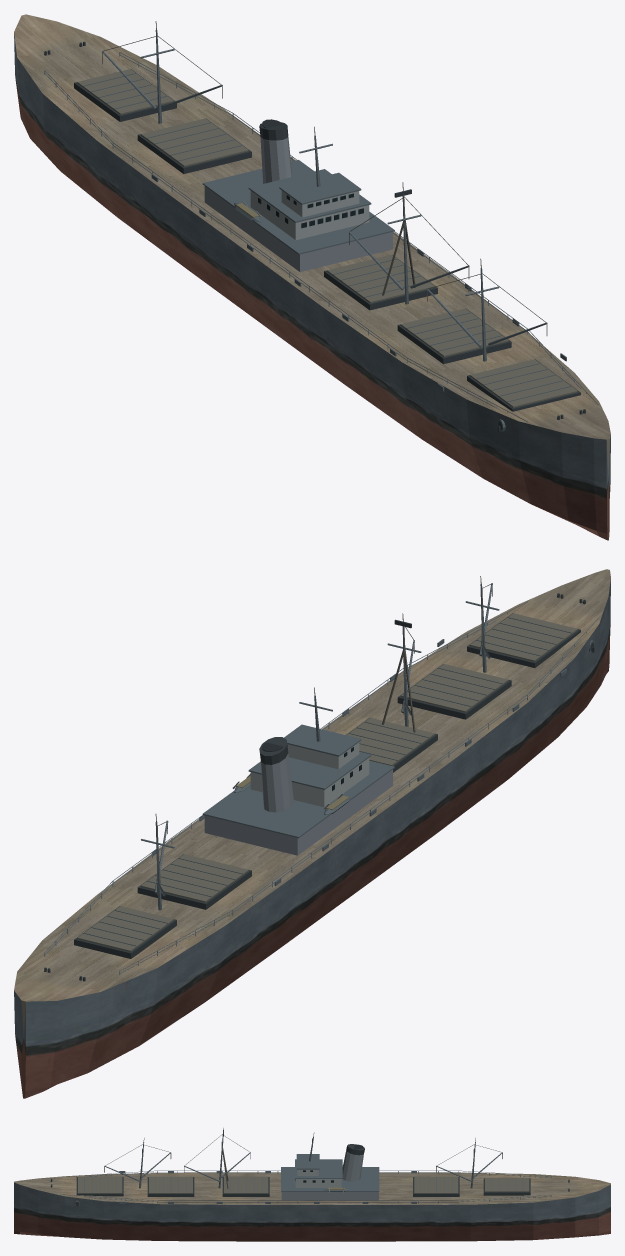
Rendered from liberty.glb.
The picture shows the model from 3 angles, top to bottom: view 1: azimuth 30°, elevation 25°; view 2: azimuth 150°, elevation 25°; view 3: azimuth 270°, elevation 25°; orthographic projection. The views are drawn at different scales.
Parts seen in each view (by area): view 1: hullPaint, deckPaint, shade, hatch, steel, dark, light, rope; view 2: hullPaint, deckPaint, shade, hatch, steel, dark, light, rope; view 3: hullPaint, deckPaint, shade, hatch, steel, dark, light, rope.
Boxes of the visible parts, x1=… form: hullPaint: x1=14, y1=33, x2=610, y2=540; deckPaint: x1=14, y1=14, x2=610, y2=439; shade: x1=44, y1=30, x2=609, y2=488; hatch: x1=77, y1=69, x2=577, y2=407; steel: x1=44, y1=52, x2=598, y2=422; dark: x1=44, y1=41, x2=585, y2=419; light: x1=250, y1=190, x2=369, y2=239; rope: x1=102, y1=21, x2=547, y2=335; hullPaint: x1=14, y1=579, x2=610, y2=1098; deckPaint: x1=14, y1=569, x2=610, y2=1001; shade: x1=21, y1=583, x2=598, y2=1046; hatch: x1=77, y1=613, x2=577, y2=951; steel: x1=44, y1=602, x2=586, y2=975; dark: x1=44, y1=593, x2=585, y2=981; light: x1=250, y1=742, x2=369, y2=807; rope: x1=155, y1=576, x2=492, y2=894; hullPaint: x1=14, y1=1182, x2=610, y2=1241; deckPaint: x1=14, y1=1172, x2=610, y2=1204; shade: x1=60, y1=1132, x2=550, y2=1203; hatch: x1=78, y1=1176, x2=529, y2=1193; steel: x1=76, y1=1151, x2=551, y2=1203; dark: x1=50, y1=1130, x2=569, y2=1196; light: x1=295, y1=1169, x2=341, y2=1187; rope: x1=104, y1=1128, x2=502, y2=1188.
Size of the model in its own units: 17.4 by 26.48 by 135.
Materials: 16 (2 with a texture image).
